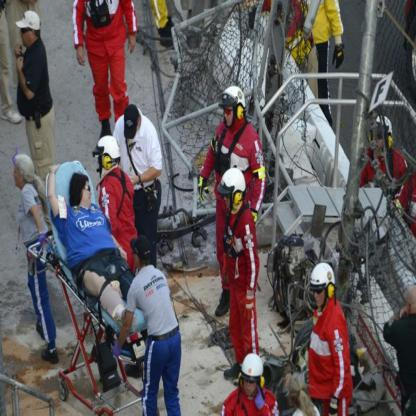face: (314, 284, 327, 307), (244, 376, 258, 397), (82, 180, 92, 207), (20, 25, 32, 47), (224, 106, 236, 128), (13, 166, 25, 187), (98, 153, 110, 174), (224, 189, 236, 209), (373, 133, 385, 153)
